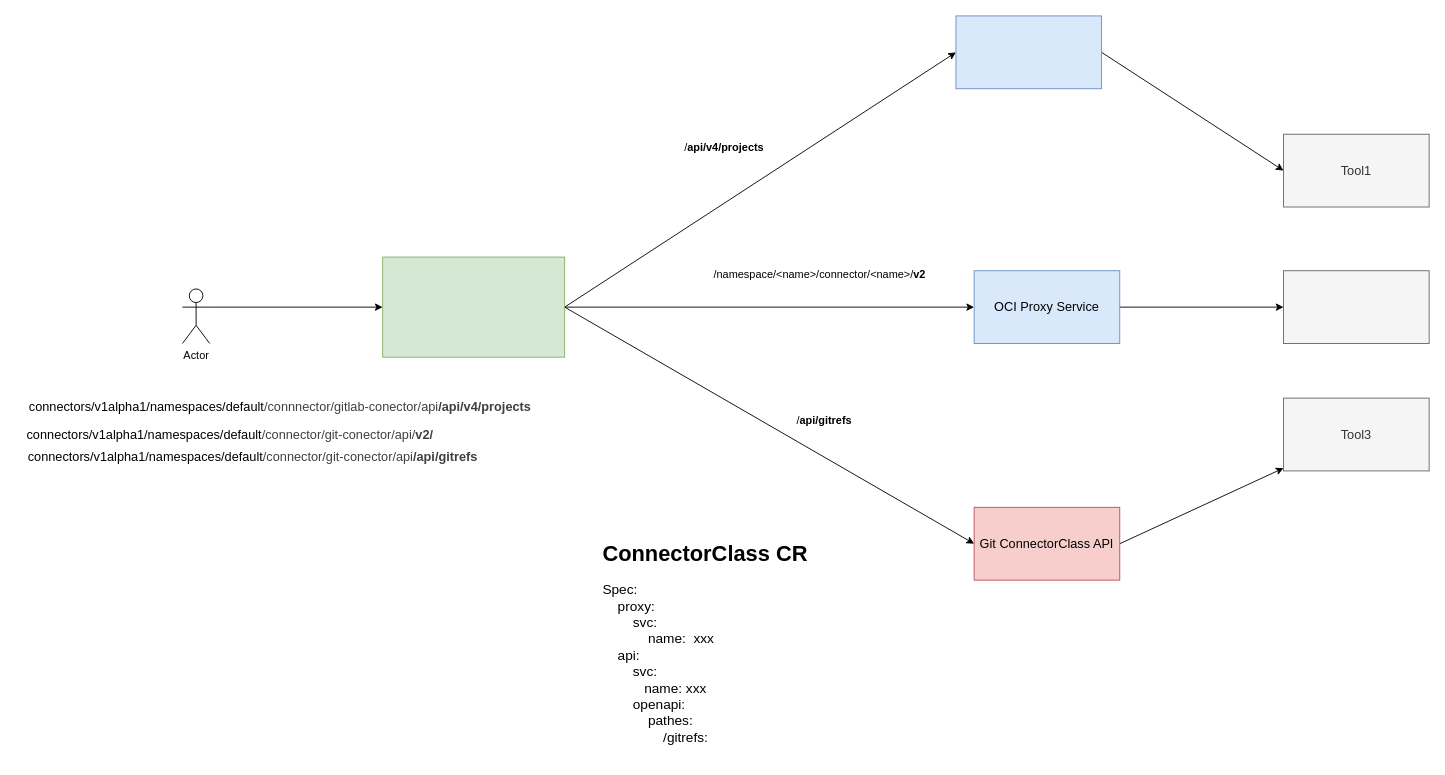
Some shapes in this 1445 by 775 pixel diagram are drawn without their labels. The shapes that lost their labels are listed below. From the top down, each one's centre as x and y in pixels, then its label:
At (x=1028, y=52): "Built-in Proxy Service".
At (x=473, y=306): "Connector API".
At (x=1356, y=307): "Tool2".
